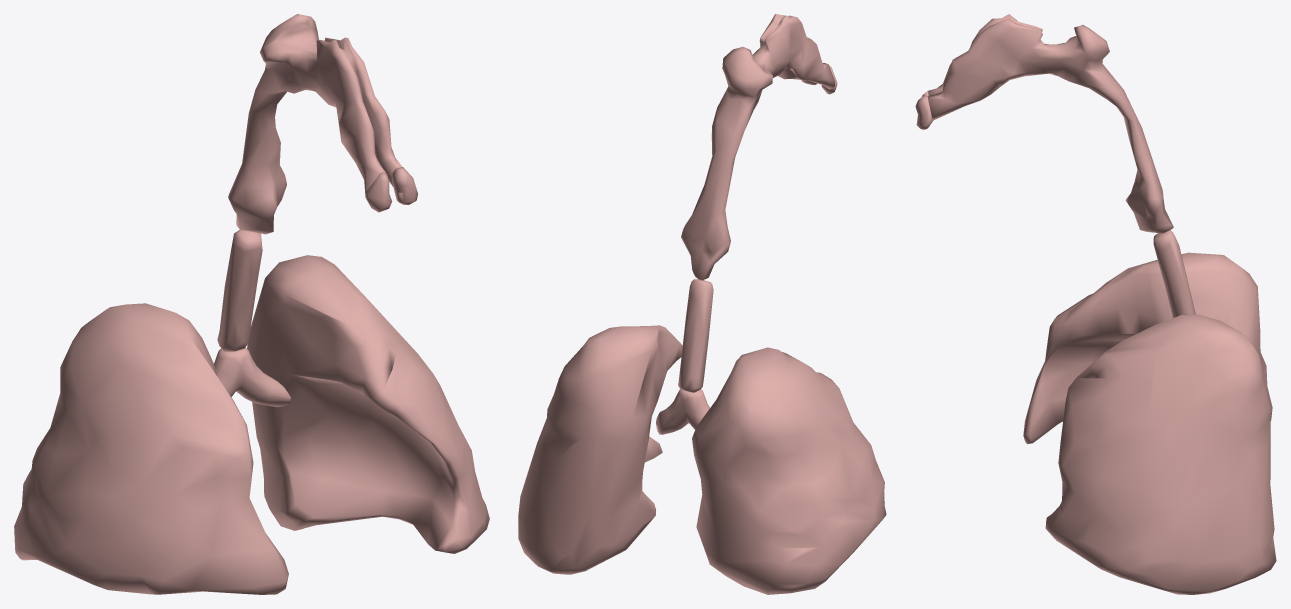
Rendered from pediatric_neonate_male.respiratory.LOD2.glb.
3 renders of one model, left to right at view 1: azimuth 30°, elevation 25°; view 2: azimuth 150°, elevation 25°; view 3: azimuth 270°, elevation 25°, orthographic. The views are drawn at different scales.
Parts seen in each view (by area): view 1: PEDIATRIC.NEONATE.MALE.RESPIRATORY.LUNG.R, PEDIATRIC.NEONATE.MALE.RESPIRATORY.LUNG.L, PEDIATRIC.NEONATE.MALE.RESPIRATORY.ET2, PEDIATRIC.NEONATE.MALE.RESPIRATORY.TRACHEA, PEDIATRIC.NEONATE.MALE.RESPIRATORY.BB1, PEDIATRIC.NEONATE.MALE.RESPIRATORY.ET1; view 2: PEDIATRIC.NEONATE.MALE.RESPIRATORY.LUNG.R, PEDIATRIC.NEONATE.MALE.RESPIRATORY.LUNG.L, PEDIATRIC.NEONATE.MALE.RESPIRATORY.ET2, PEDIATRIC.NEONATE.MALE.RESPIRATORY.TRACHEA, PEDIATRIC.NEONATE.MALE.RESPIRATORY.BB1; view 3: PEDIATRIC.NEONATE.MALE.RESPIRATORY.LUNG.L, PEDIATRIC.NEONATE.MALE.RESPIRATORY.LUNG.R, PEDIATRIC.NEONATE.MALE.RESPIRATORY.ET2, PEDIATRIC.NEONATE.MALE.RESPIRATORY.TRACHEA.
Boxes of the visible parts, left/top/right/bottom form: PEDIATRIC.NEONATE.MALE.RESPIRATORY.LUNG.R: left=14, top=303, right=288, bottom=594; PEDIATRIC.NEONATE.MALE.RESPIRATORY.LUNG.L: left=247, top=255, right=489, bottom=553; PEDIATRIC.NEONATE.MALE.RESPIRATORY.ET2: left=228, top=14, right=402, bottom=234; PEDIATRIC.NEONATE.MALE.RESPIRATORY.TRACHEA: left=217, top=229, right=262, bottom=351; PEDIATRIC.NEONATE.MALE.RESPIRATORY.BB1: left=214, top=348, right=290, bottom=407; PEDIATRIC.NEONATE.MALE.RESPIRATORY.ET1: left=366, top=167, right=417, bottom=212; PEDIATRIC.NEONATE.MALE.RESPIRATORY.LUNG.R: left=692, top=347, right=886, bottom=594; PEDIATRIC.NEONATE.MALE.RESPIRATORY.LUNG.L: left=518, top=325, right=682, bottom=574; PEDIATRIC.NEONATE.MALE.RESPIRATORY.ET2: left=681, top=14, right=835, bottom=280; PEDIATRIC.NEONATE.MALE.RESPIRATORY.TRACHEA: left=678, top=279, right=713, bottom=392; PEDIATRIC.NEONATE.MALE.RESPIRATORY.BB1: left=656, top=389, right=709, bottom=434; PEDIATRIC.NEONATE.MALE.RESPIRATORY.LUNG.L: left=1045, top=314, right=1276, bottom=594; PEDIATRIC.NEONATE.MALE.RESPIRATORY.LUNG.R: left=1023, top=252, right=1272, bottom=444; PEDIATRIC.NEONATE.MALE.RESPIRATORY.ET2: left=928, top=14, right=1173, bottom=233; PEDIATRIC.NEONATE.MALE.RESPIRATORY.TRACHEA: left=1153, top=230, right=1195, bottom=317.
Bounding box in the file's own units: 0.0956 × 0.1336 × 0.0875.
